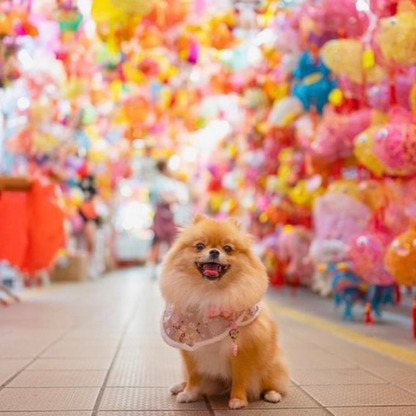Pomeranian: (129, 204, 321, 406)
